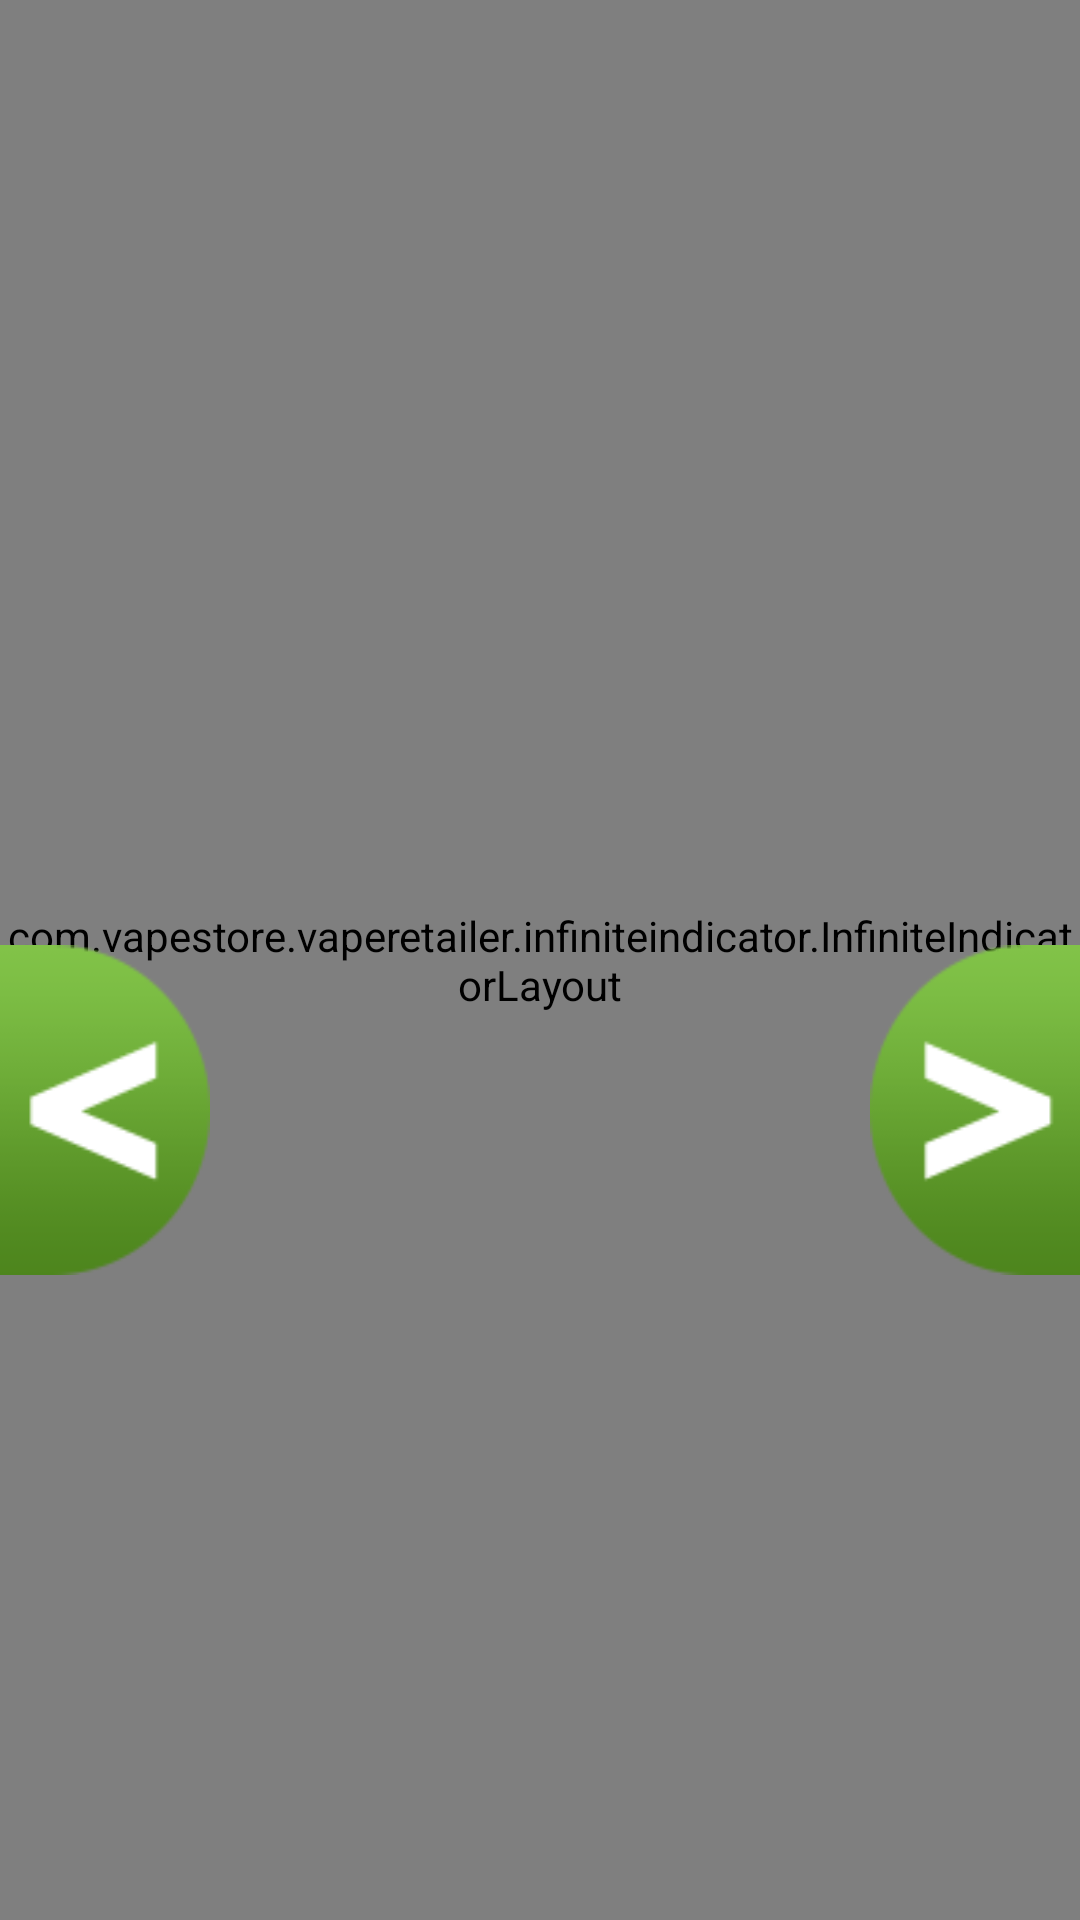

Named icons in this screenshot (1080×1920) and their bounding boxes, bbox=(x1, y1, x2, y2):
back: bbox=(0, 945, 210, 1275)
next: bbox=(870, 945, 1080, 1275)
